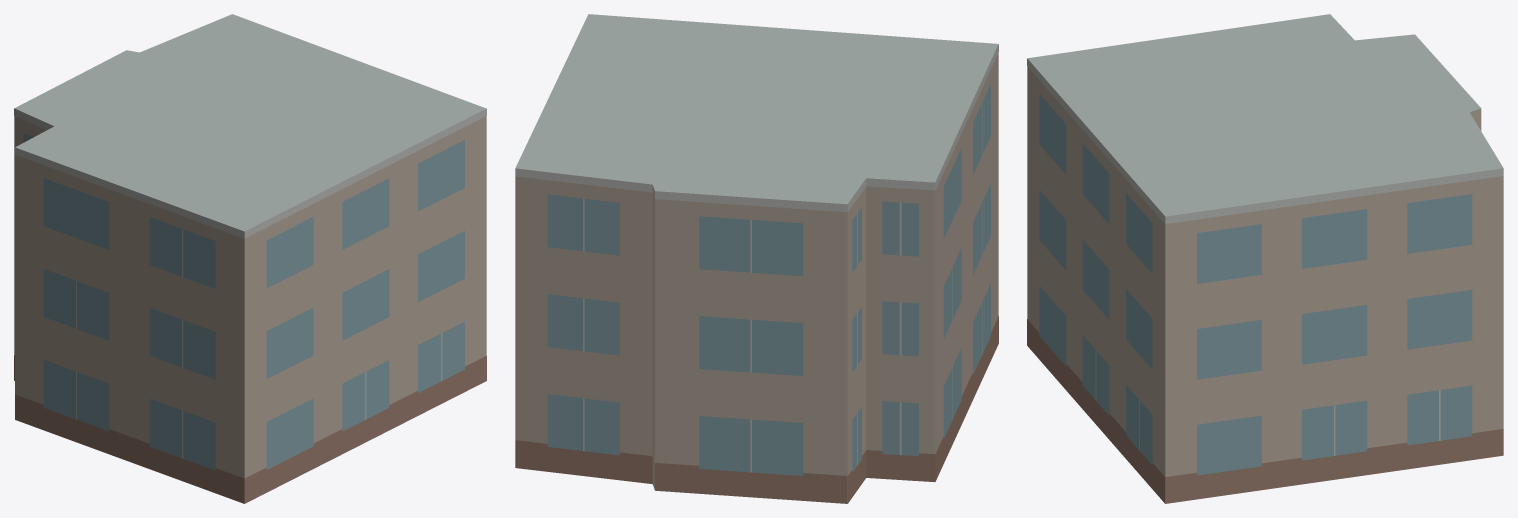
The model's file is survey-upis-32680393.glb.
The picture shows the model from 3 angles, left to right: view 1: azimuth 30°, elevation 25°; view 2: azimuth 150°, elevation 25°; view 3: azimuth 270°, elevation 25°; orthographic projection. The views are drawn at different scales.
Parts seen in each view (by area): view 1: survey-upis-32680393.tmp; view 2: survey-upis-32680393.tmp; view 3: survey-upis-32680393.tmp.
Part boxes in pixels (<box>): survey-upis-32680393.tmp: <box>14,14,486,503</box>; survey-upis-32680393.tmp: <box>515,14,998,503</box>; survey-upis-32680393.tmp: <box>1027,14,1503,503</box>.
Bounding box in the file's own units: 13.85 × 9.15 × 13.77.
